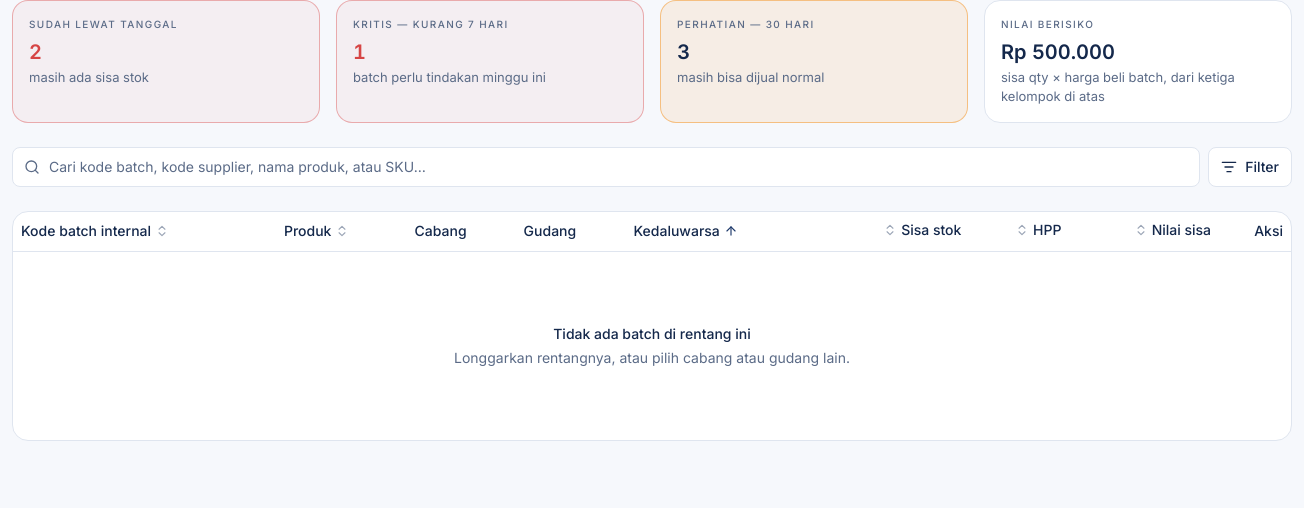
Test: BatchesScreen › tells an empty search apart from an empty horizon
Check: the text "Tidak ada batch di rentang ini" is shown, box [553,325,751,342]
In the search field labelled "Cari kode batch, kode supplier, nama produk, atau SKU": (606, 167) [12,147,1200,187], type "ZZZ"
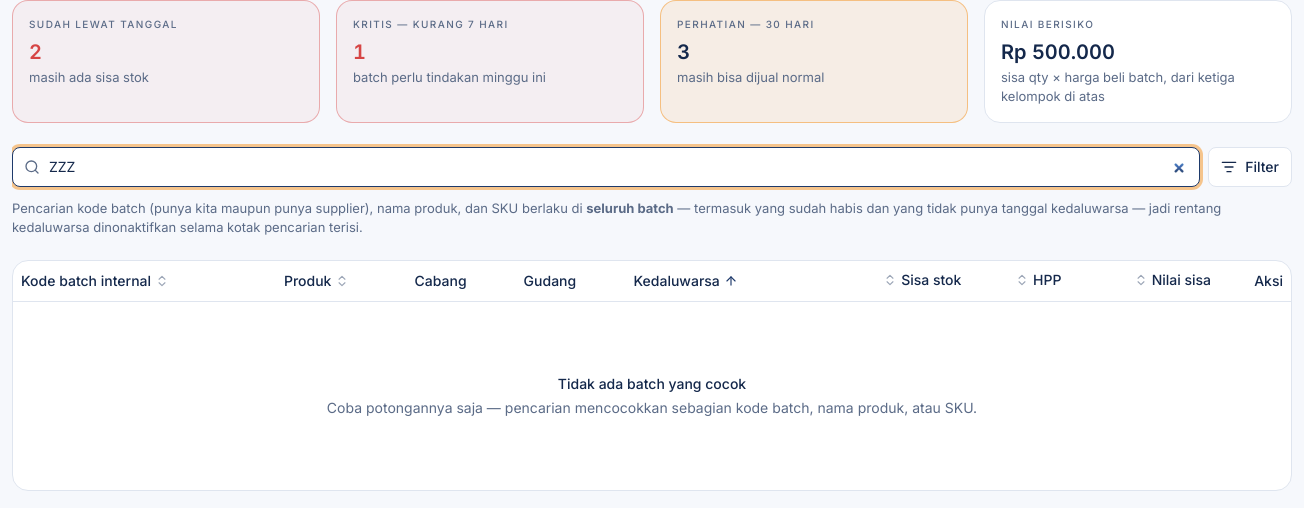
Check: the text "Tidak ada batch yang cocok" is shown, box [558,375,746,392]
